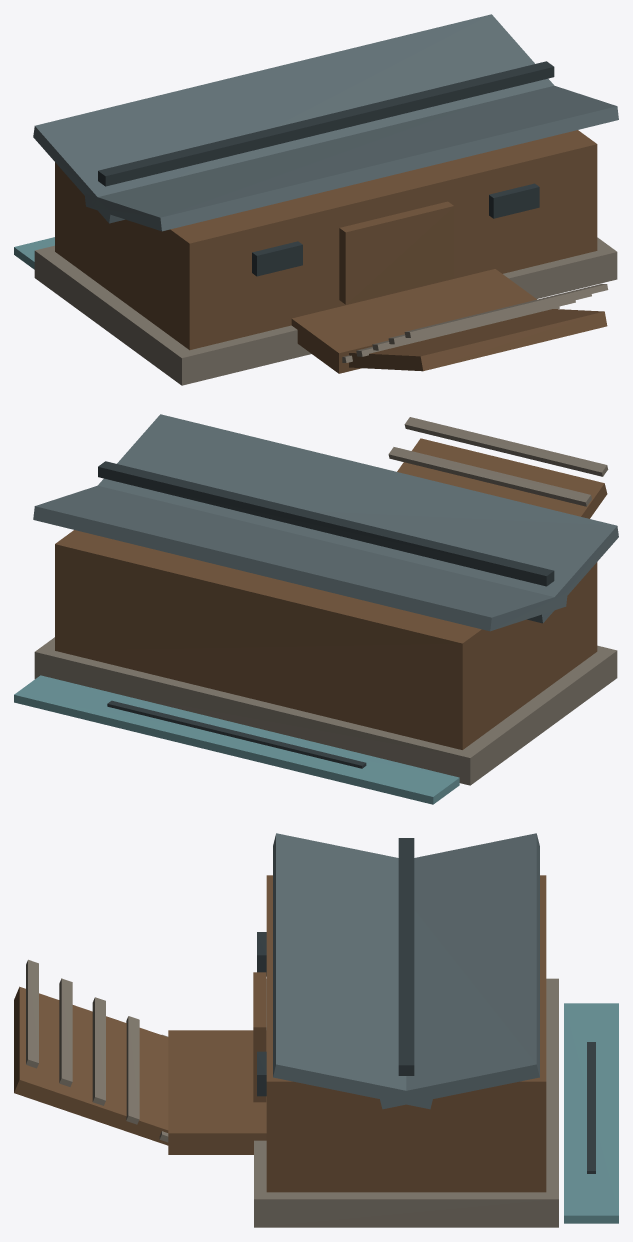
File: Duck-House.glb
The picture shows the model from 3 angles, top to bottom: view 1: azimuth 30°, elevation 25°; view 2: azimuth 150°, elevation 25°; view 3: azimuth 270°, elevation 25°; orthographic projection. The views are drawn at different scales.
Parts seen in each view (by area): view 1: wind-pump-static-duck-house-waterproof-timber, wind-pump-static-duck-house-galvanized-roof, wind-pump-static-duck-house-stone-curb, wind-pump-static-duck-house-dark-iron, wind-pump-static-duck-house-drainage-blue-gray; view 2: wind-pump-static-duck-house-waterproof-timber, wind-pump-static-duck-house-galvanized-roof, wind-pump-static-duck-house-stone-curb, wind-pump-static-duck-house-drainage-blue-gray, wind-pump-static-duck-house-dark-iron; view 3: wind-pump-static-duck-house-galvanized-roof, wind-pump-static-duck-house-waterproof-timber, wind-pump-static-duck-house-stone-curb, wind-pump-static-duck-house-drainage-blue-gray, wind-pump-static-duck-house-dark-iron.
Boxes of the visible parts, x1,y1,x2,y2 form: wind-pump-static-duck-house-waterproof-timber: [55, 130, 607, 373]; wind-pump-static-duck-house-galvanized-roof: [33, 14, 618, 231]; wind-pump-static-duck-house-stone-curb: [34, 237, 617, 385]; wind-pump-static-duck-house-dark-iron: [98, 61, 554, 276]; wind-pump-static-duck-house-drainage-blue-gray: [14, 237, 54, 269]; wind-pump-static-duck-house-waterproof-timber: [55, 438, 607, 749]; wind-pump-static-duck-house-galvanized-roof: [33, 414, 618, 631]; wind-pump-static-duck-house-stone-curb: [34, 417, 617, 785]; wind-pump-static-duck-house-drainage-blue-gray: [14, 675, 459, 804]; wind-pump-static-duck-house-dark-iron: [98, 461, 554, 768]; wind-pump-static-duck-house-galvanized-roof: [273, 833, 539, 1109]; wind-pump-static-duck-house-waterproof-timber: [14, 875, 546, 1192]; wind-pump-static-duck-house-stone-curb: [26, 959, 558, 1227]; wind-pump-static-duck-house-drainage-blue-gray: [564, 1003, 618, 1223]; wind-pump-static-duck-house-dark-iron: [257, 838, 595, 1173].
Size of the model in its own units: 2.78 by 0.9461 by 3.07.
